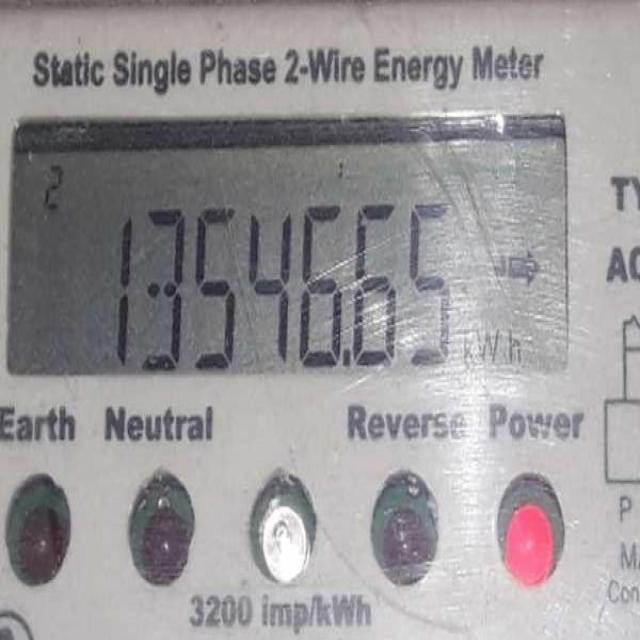1: (104, 194, 142, 373)
3: (137, 199, 186, 370)
4: (244, 198, 296, 368)
5: (191, 195, 243, 371), (408, 189, 458, 368)
6: (352, 190, 402, 370), (300, 190, 346, 369)
Digital meter: (15, 130, 569, 372)
point: (338, 340, 355, 370)
